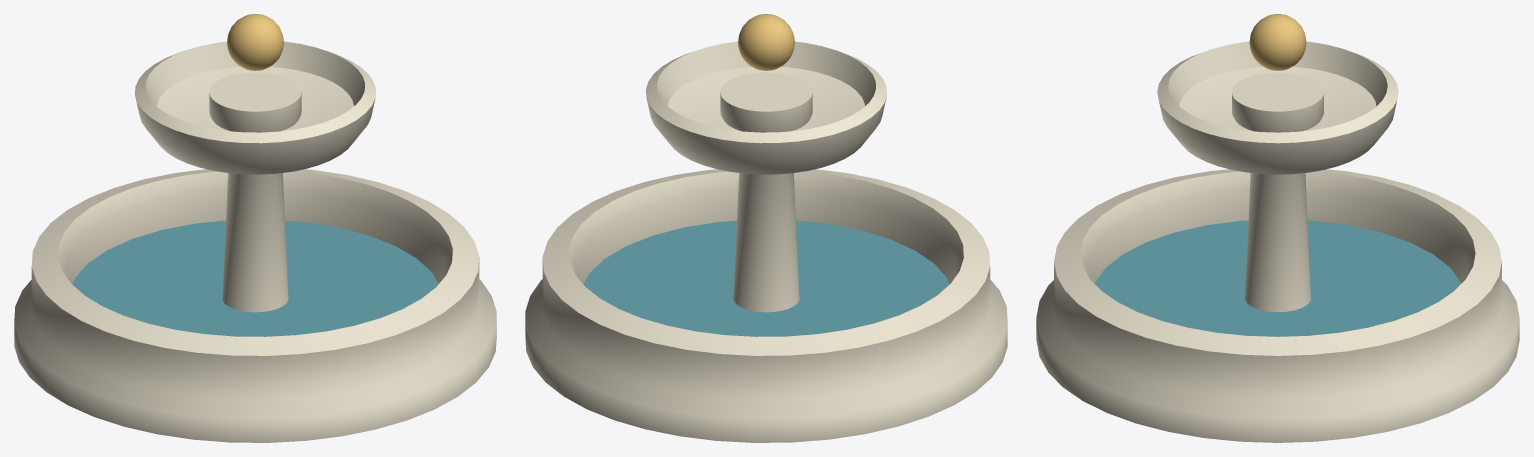
Rendered from royal-court-and-throne-palace-courtyard-fountain-7b902f0a__29415.glb.
The picture shows the model from 3 angles, left to right: view 1: azimuth 30°, elevation 25°; view 2: azimuth 150°, elevation 25°; view 3: azimuth 270°, elevation 25°; orthographic projection.
Parts seen in each view (by area): view 1: courtyard-fountain; view 2: courtyard-fountain; view 3: courtyard-fountain.
Boxes of the visible parts, x1,y1,x2,y2 form: courtyard-fountain: (14,14,496,442); courtyard-fountain: (525,14,1007,442); courtyard-fountain: (1036,14,1519,442).
Size of the model in its own units: 2.2 by 1.63 by 2.2.
